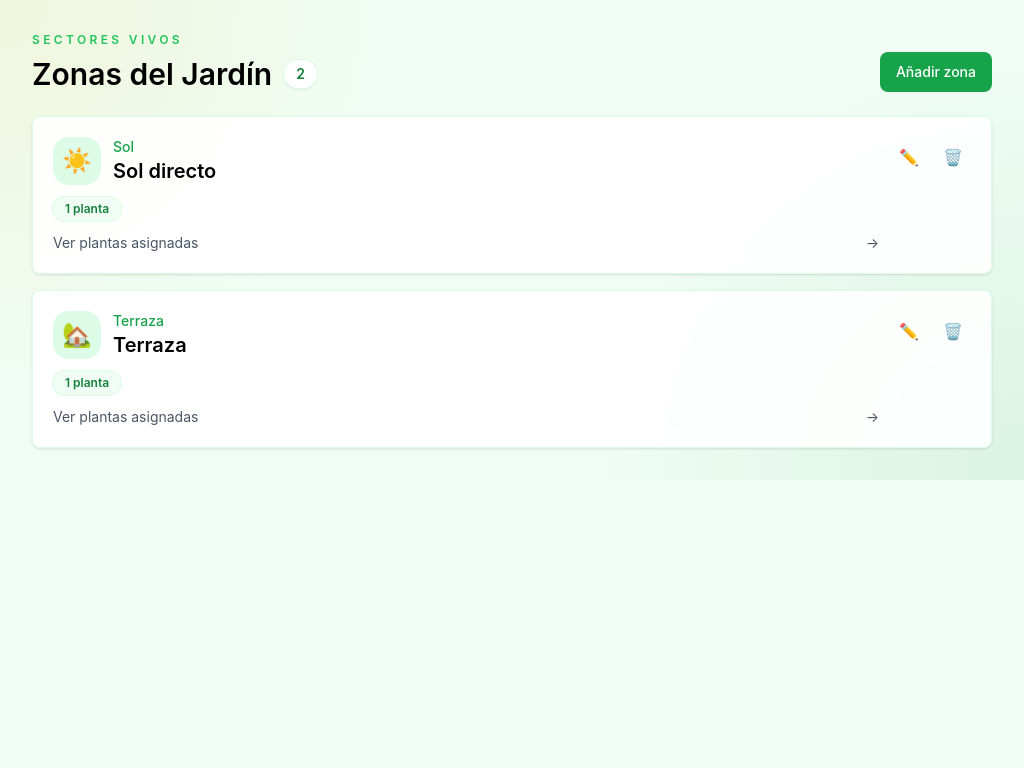
Scenario: Zones page › renders zones and their plants
expect the heading "Zonas del Jardín" is shown: met, box x1=32 y1=56 x2=272 y2=92
expect the heading "Sol directo" is shown: met, box x1=113 y1=157 x2=216 y2=185
Click the button with aria-label "Ver zona Sol directo". click: (77, 161)
box: x1=53 y1=137 x2=879 y2=253
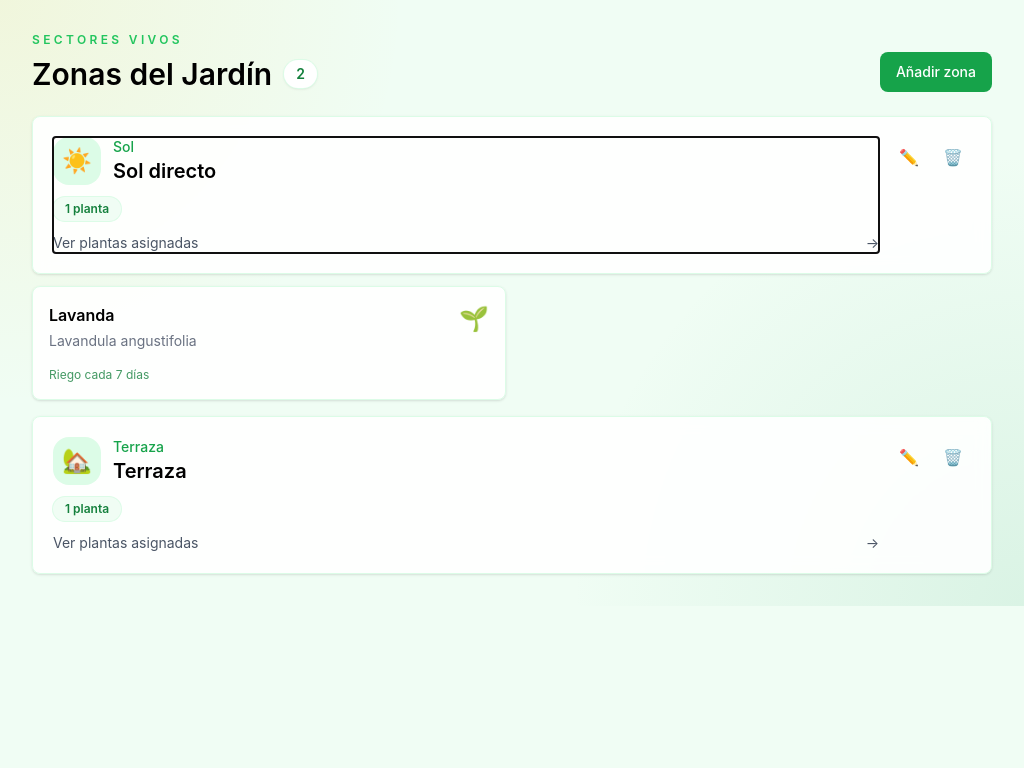
expect the heading "Lavanda" is shown: met, box x1=49 y1=305 x2=114 y2=325
